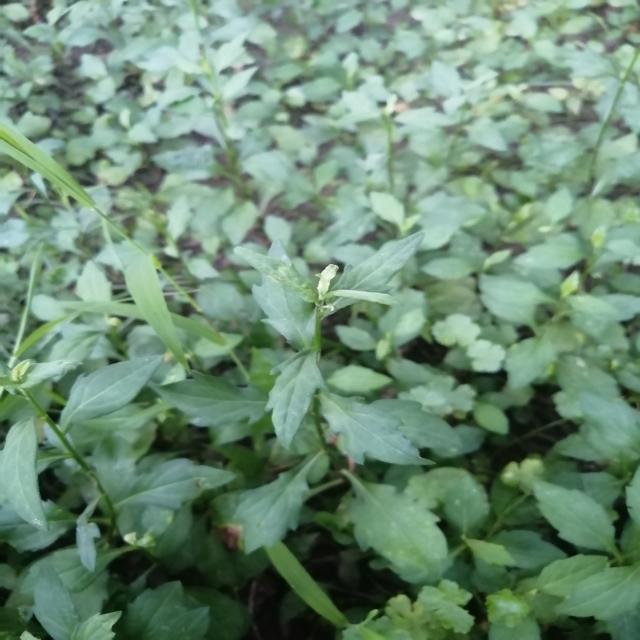Indian aster: (222, 223, 449, 505)
